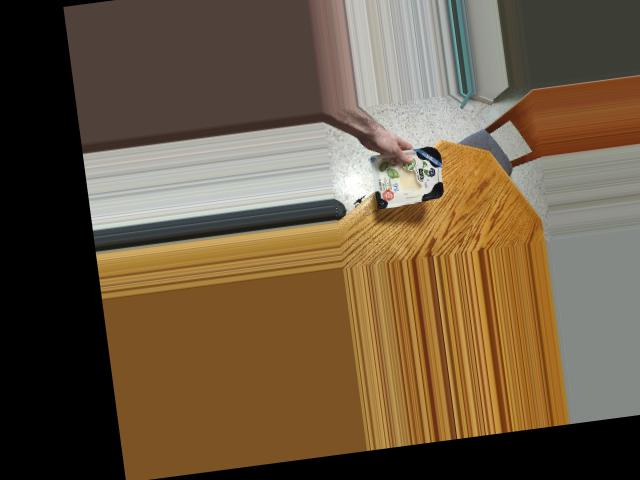cheese: (353, 141, 462, 210)
